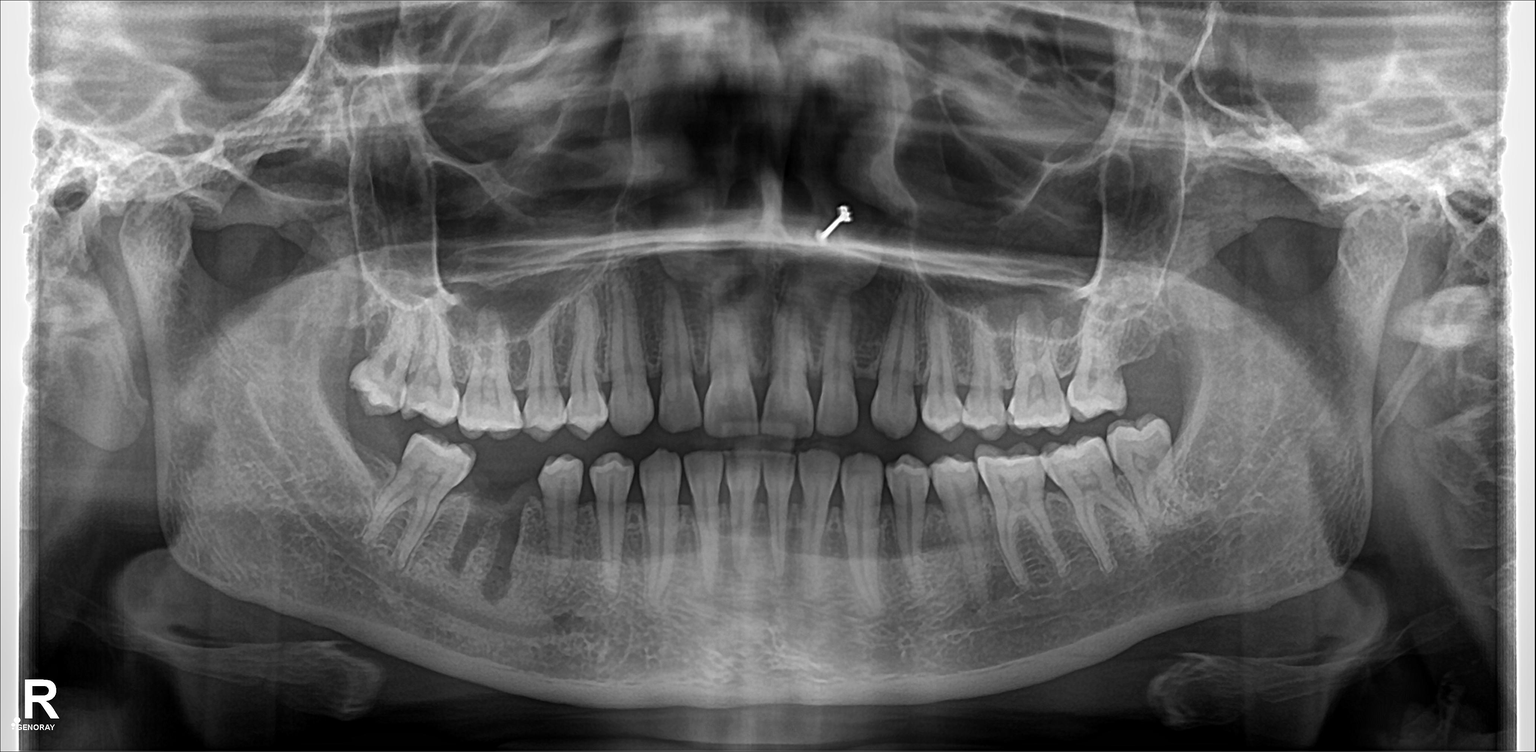Missing Tooth: (337, 411, 392, 524), (1121, 292, 1174, 396), (849, 307, 880, 423)
Retained Root: (469, 458, 536, 585)
